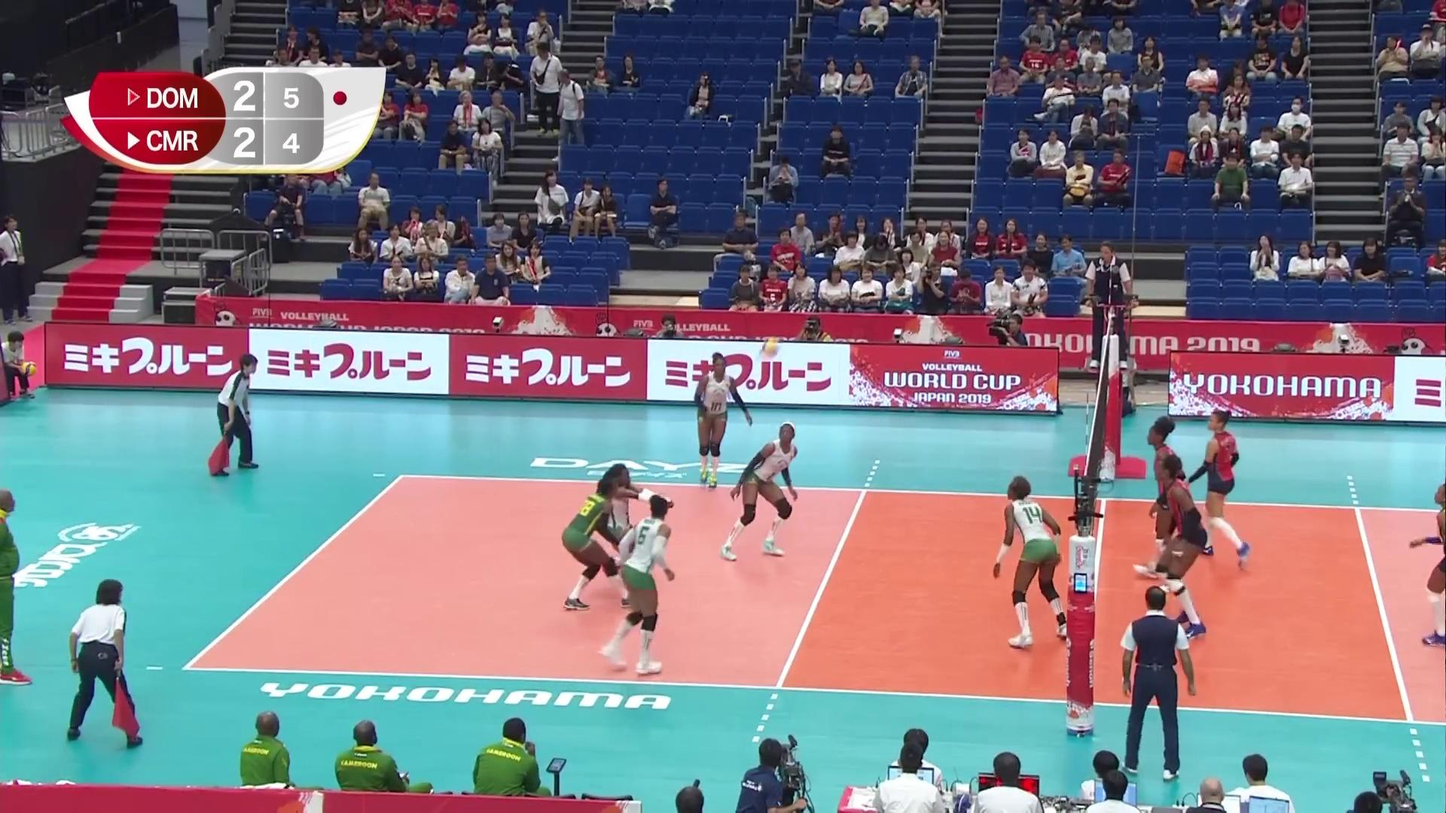player: (993, 477, 1072, 652), (599, 498, 676, 675), (1183, 409, 1254, 566), (722, 423, 803, 559), (1153, 457, 1209, 637), (563, 478, 637, 614), (1134, 414, 1187, 591), (599, 466, 676, 577), (693, 355, 751, 487), (1409, 482, 1446, 646)
refree: (1120, 587, 1194, 775), (67, 580, 142, 747), (207, 352, 258, 473), (1087, 241, 1135, 358)
